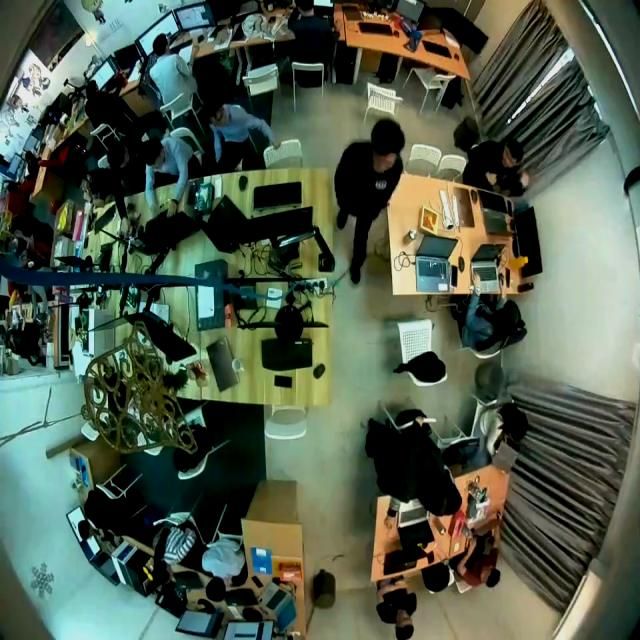staff-tag: (376, 180, 387, 190)
